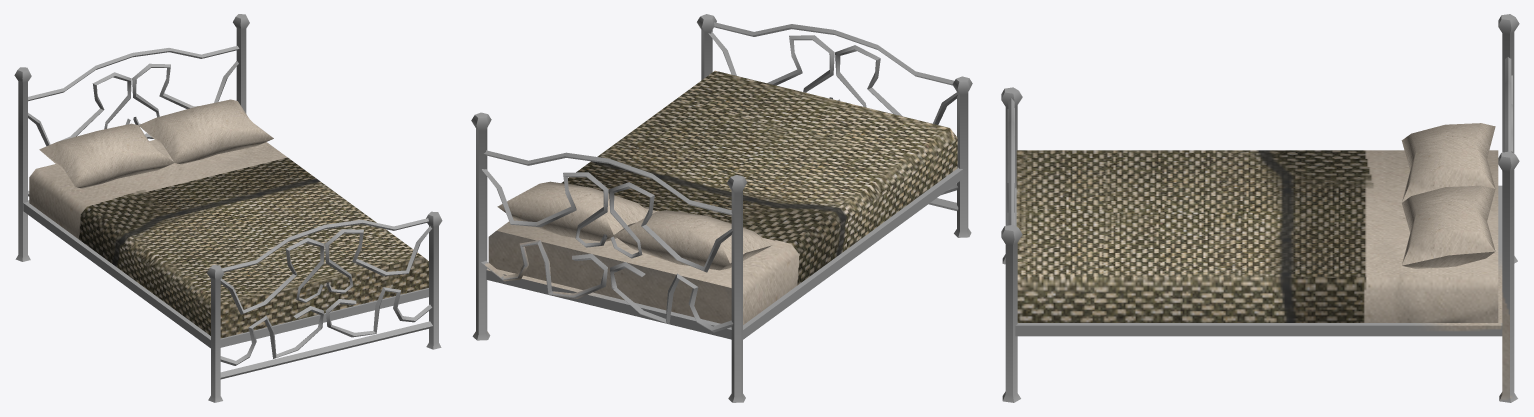
File: bed_02-col.glb
3 renders of one model, left to right at view 1: azimuth 30°, elevation 25°; view 2: azimuth 150°, elevation 25°; view 3: azimuth 270°, elevation 25°, orthographic. The views are drawn at different scales.
Parts seen in each view (by area): view 1: bed_02-col; view 2: bed_02-col; view 3: bed_02-col.
Boxes of the visible parts, bbox=[...] form: bed_02-col: bbox=[14, 14, 442, 402]; bed_02-col: bbox=[471, 14, 972, 402]; bed_02-col: bbox=[1001, 14, 1519, 402].
Bounding box in the file's own units: 1.73 × 1.34 × 2.58.
1 material, 1 textured.
